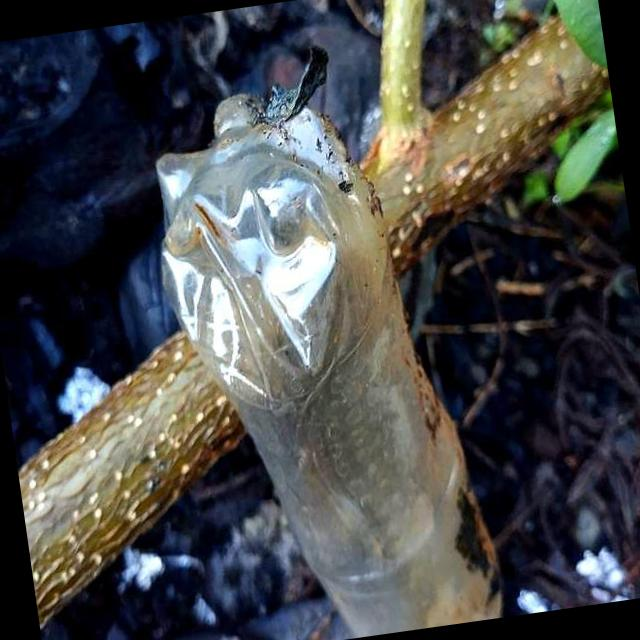Non-biodegradable: (137, 63, 511, 640)
